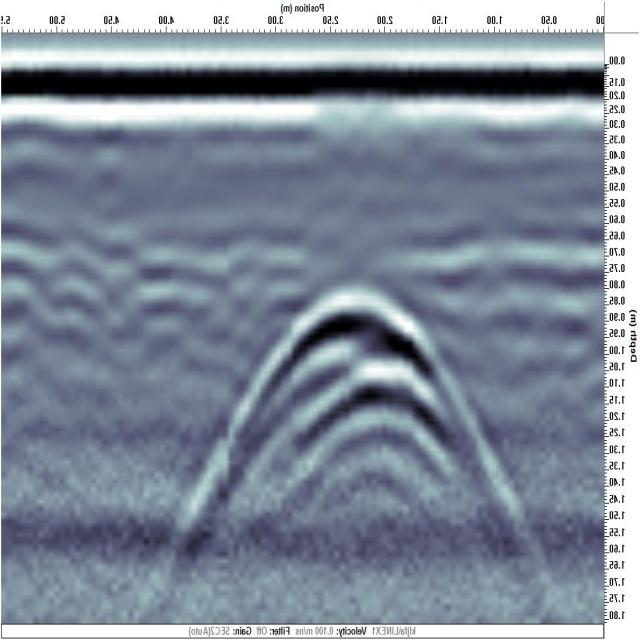hyperbola: (203, 281, 486, 550), (275, 358, 461, 536)
